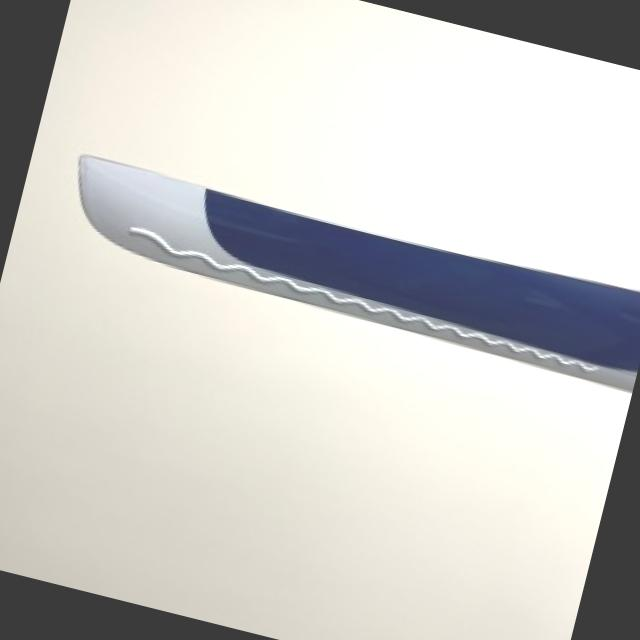healthy: (77, 158, 640, 389)
